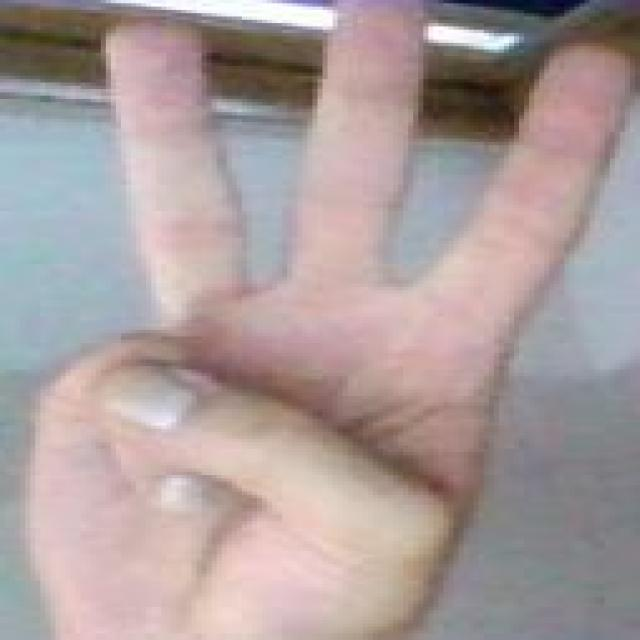W: (0, 0, 640, 606)
